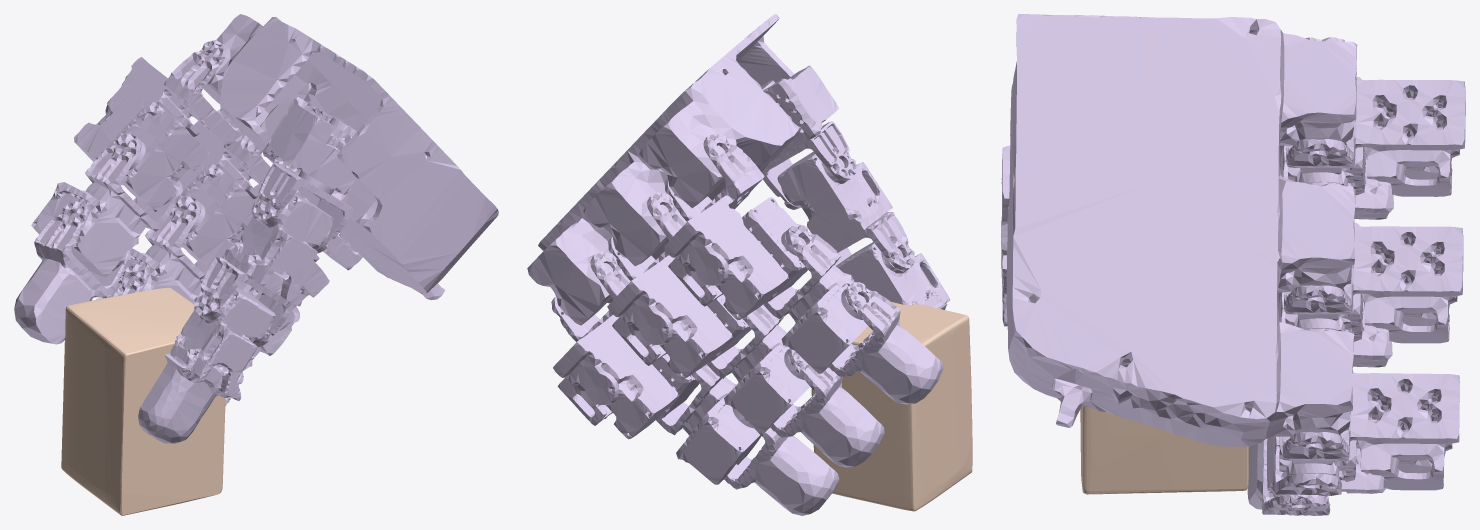
File: 48ef16fdfc0643-closed.glb
3 views of the same model, side by side, from view 1: azimuth 30°, elevation 25°; view 2: azimuth 150°, elevation 25°; view 3: azimuth 270°, elevation 25° (orthographic). The views are drawn at different scales.
Parts seen in each view (by area): view 1: LEAP_hand, world; view 2: LEAP_hand, world; view 3: LEAP_hand, world.
Part boxes in pixels (left/top/right/bottom): LEAP_hand: left=14, top=14, right=498, bottom=443; world: left=61, top=287, right=225, bottom=515; LEAP_hand: left=527, top=14, right=949, bottom=515; world: left=811, top=302, right=972, bottom=511; LEAP_hand: left=1001, top=14, right=1465, bottom=515; world: left=1080, top=406, right=1249, bottom=494.
Size of the model in its own units: 0.2006 by 0.1921 by 0.1397.
